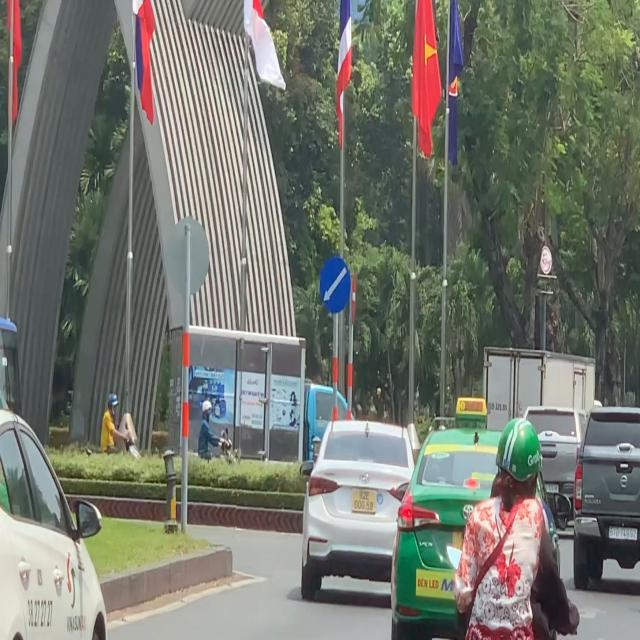Hieu lenh: (320, 256, 351, 314)
